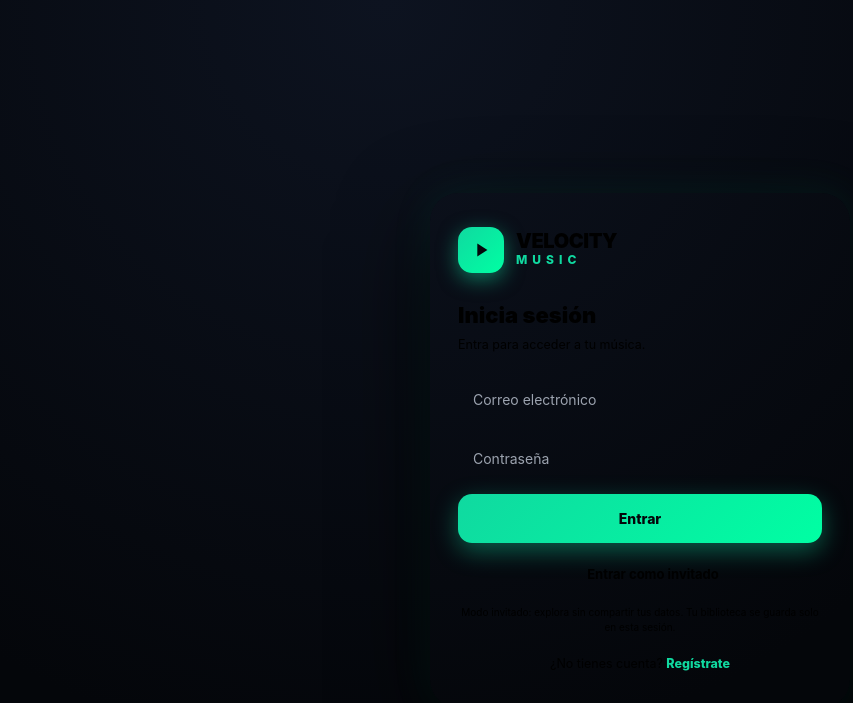
Test case: AuthScreen › muestra al usuario el error que devuelve el backend
Type "a@b.c" into the field with placeholder "Correo electrónico".
click(640, 400); type("a@b.c")  # box [458, 376, 822, 423]
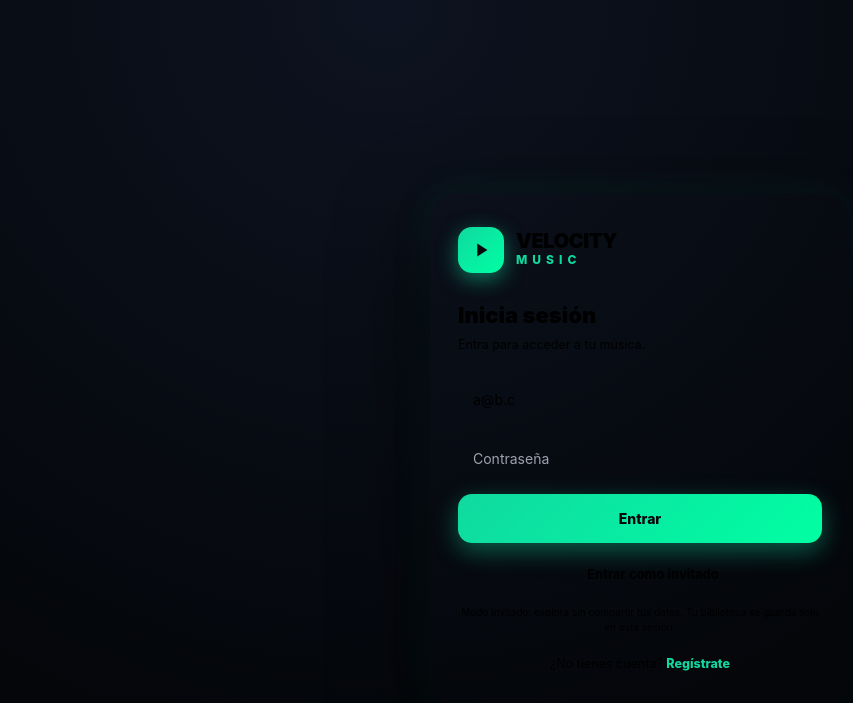
Type "mala" into the password field with placeholder "Contraseña".
click(640, 459); type("mala")  # box [458, 435, 822, 482]
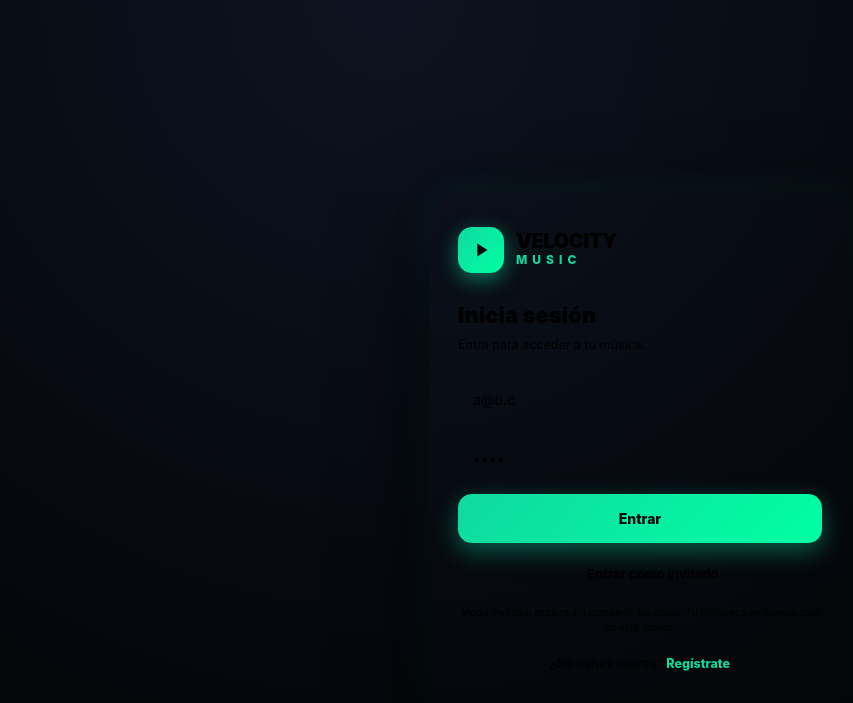
Click the button "Entrar".
click(640, 519)  # box [458, 494, 822, 543]
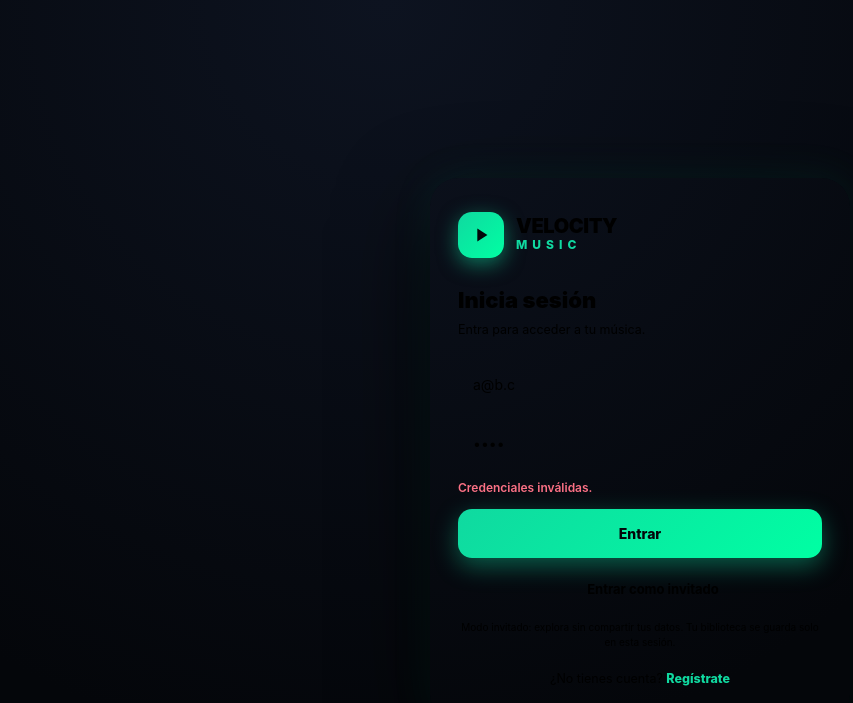
Expected: the text "Credenciales inválidas." is shown, [458, 480, 592, 495]
